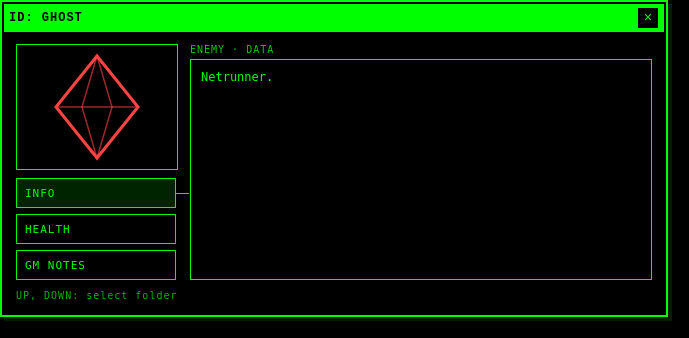
GM notes on an NPC token › are fetched for that token with the admin token when opened
This screenshot has width=689, height=338.
Click the tab "GM NOTES" at [96, 265], box [16,250,176,280]
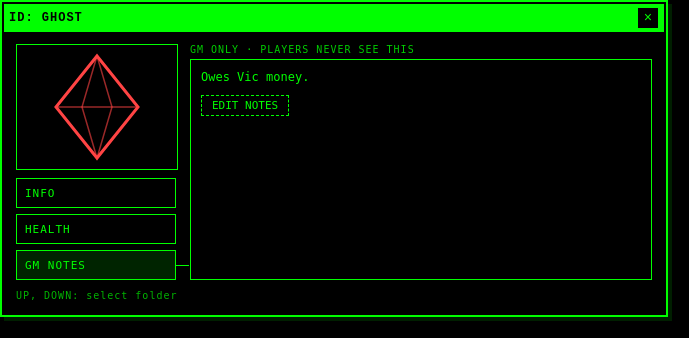
Check: the text "Owes Vic money." is shown, box [201,70,309,84]
